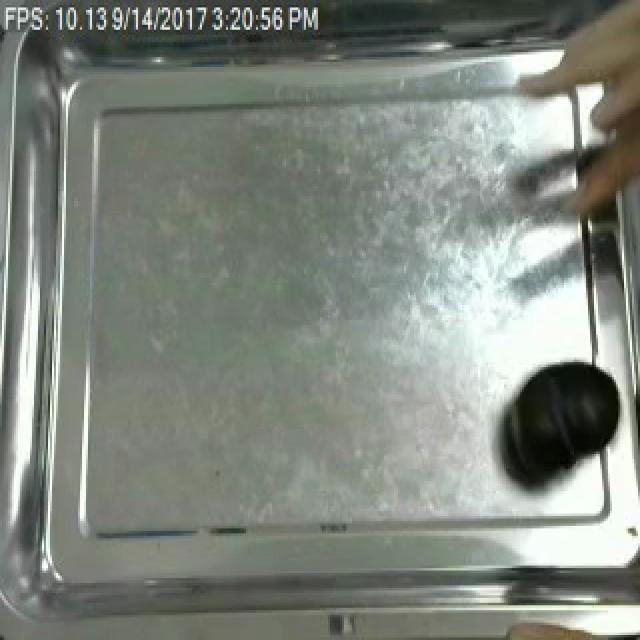Fruit: (498, 357, 624, 484)
